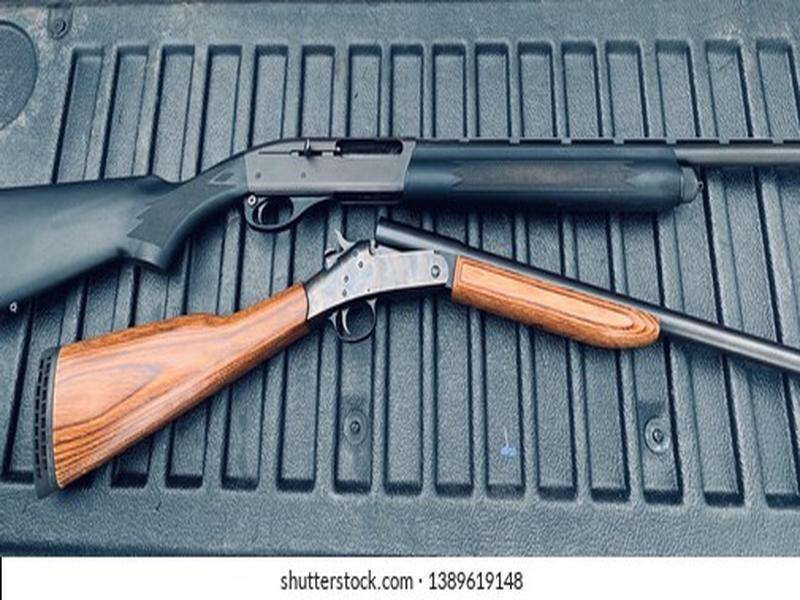GUN: (1, 126, 800, 503)
